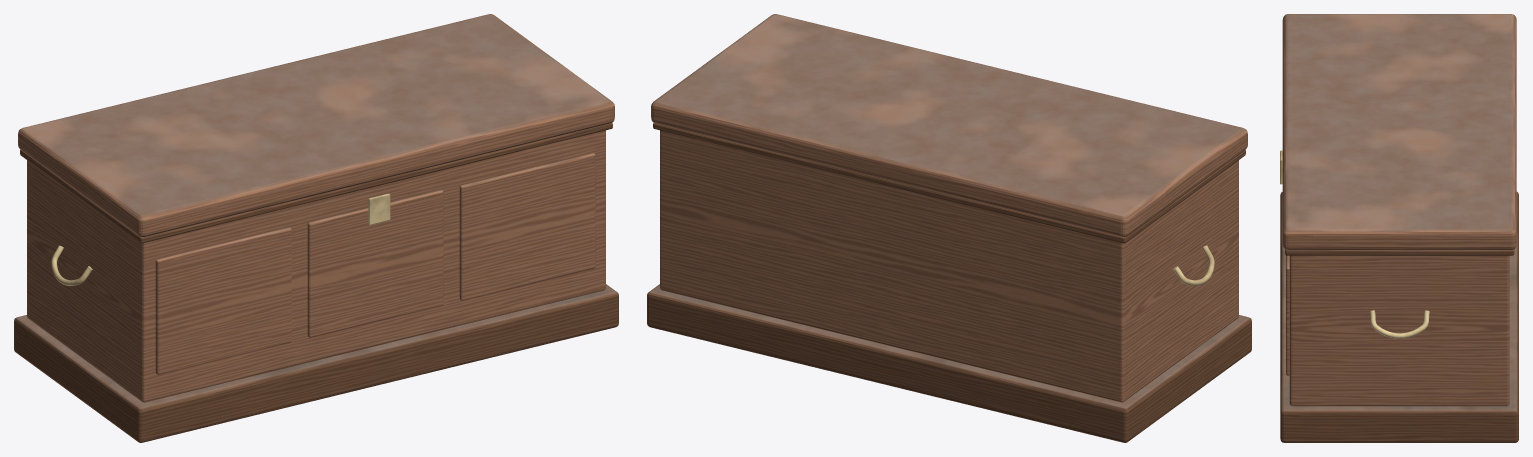
Rendered from np_cedar_chest_1k.fbx.
3 views of the same model, side by side, from view 1: azimuth 30°, elevation 25°; view 2: azimuth 150°, elevation 25°; view 3: azimuth 270°, elevation 25° (orthographic). The views are drawn at different scales.
Visible parts, largest first — view 1: np_cedar_chest; view 2: np_cedar_chest; view 3: np_cedar_chest.
Boxes of the visible parts, <box> form: np_cedar_chest: <box>14,14,618,442</box>; np_cedar_chest: <box>647,14,1251,442</box>; np_cedar_chest: <box>1280,14,1518,442</box>.
Bounding box in the file's own units: 1.22 × 0.51 × 0.521.
Materials: 1 (1 with a texture image).
